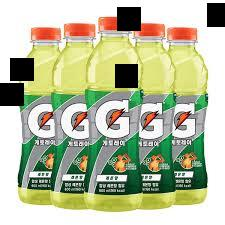gatorade_lemon: (86, 10, 143, 219)
